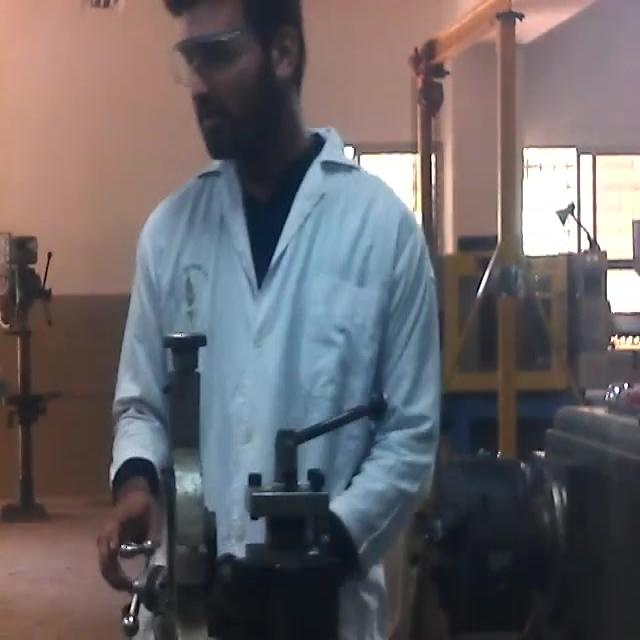googles: (170, 25, 268, 95)
labcoat: (111, 123, 444, 640)
